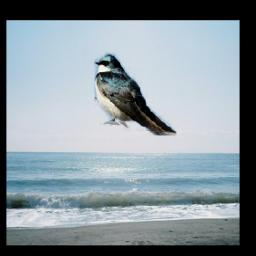Swallow: (93, 53, 176, 136)
